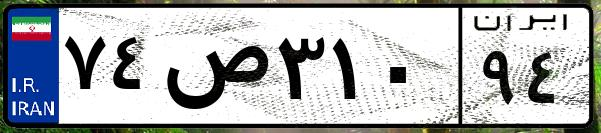0: (385, 28, 445, 110)
1: (330, 28, 385, 110)
3: (270, 28, 330, 110)
4: (525, 38, 570, 115), (110, 28, 158, 98)
7: (57, 26, 110, 100)
9: (475, 38, 525, 113)
ص: (158, 20, 270, 120)
